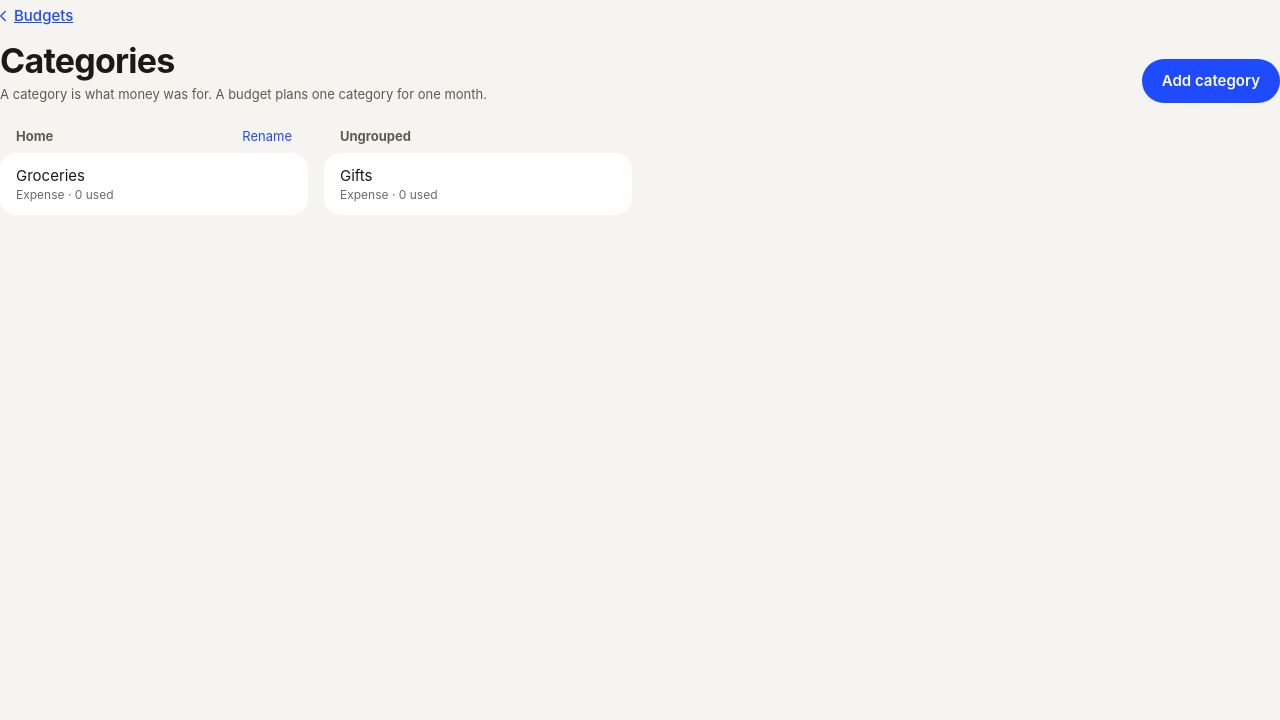
Test case: renaming a category group › says so when the name is already taken
Click the button with aria-label "Rename Home" at (267, 136), box [242,127,292,145]
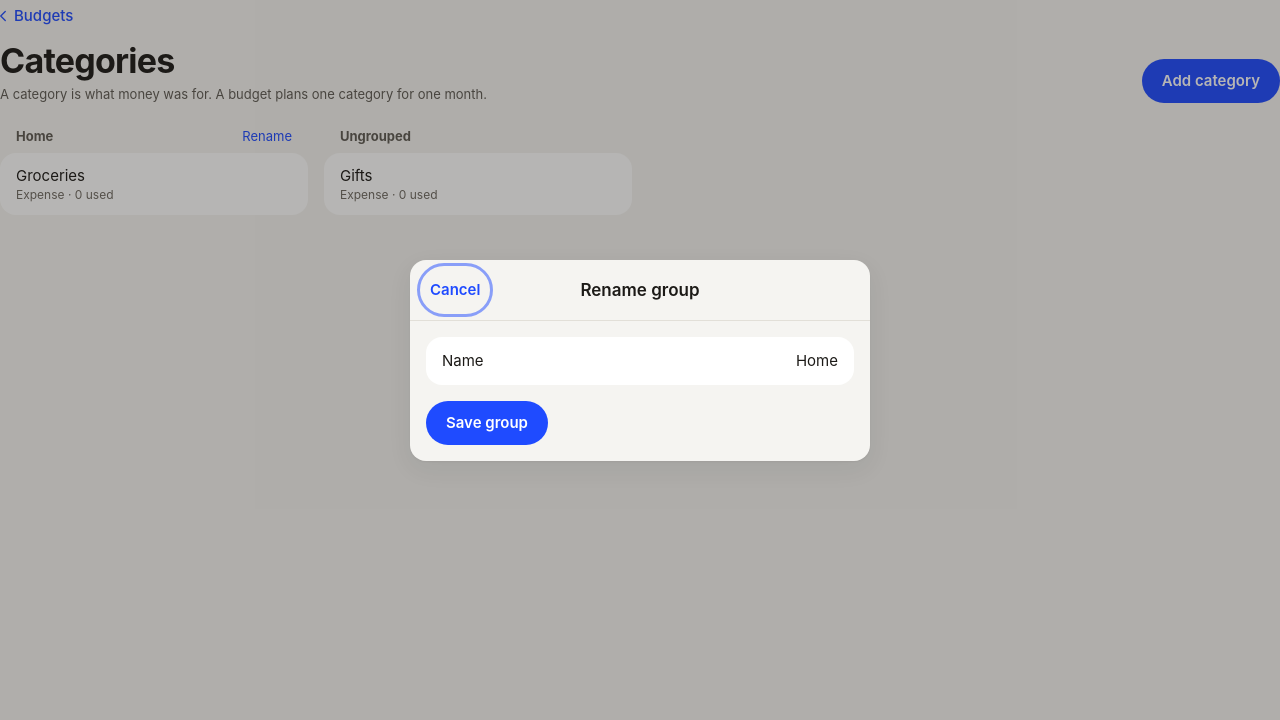
Clear the field labelled "Name" at (721, 360), box [604,338,838,382]
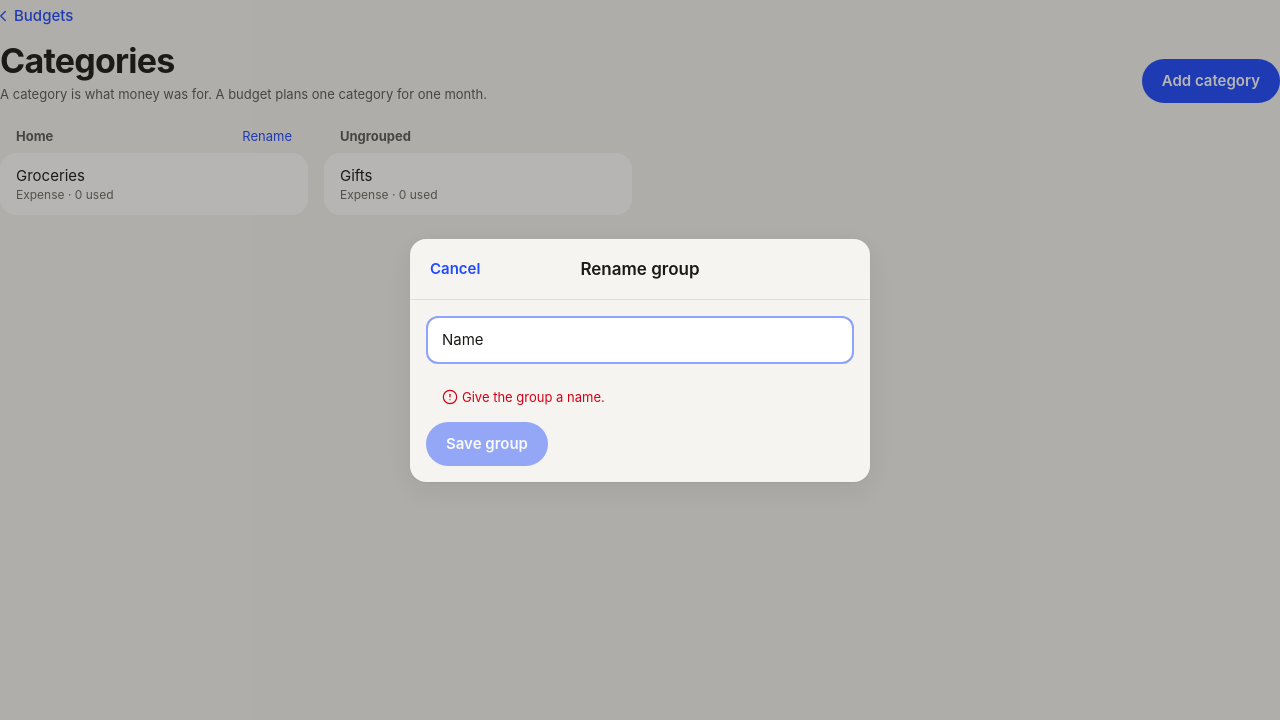
Type "Fun" into the field labelled "Name" at (721, 340), box [604,318,838,362]
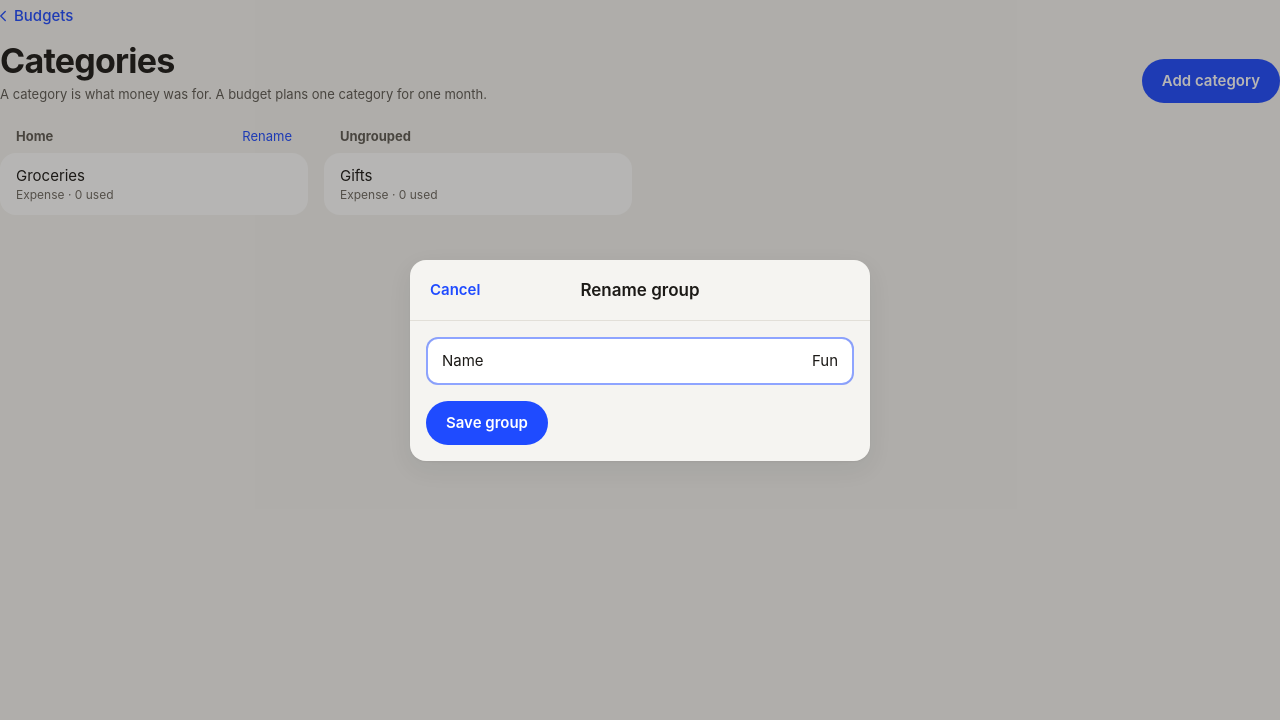
Click the button "Save group" at (487, 422), box [426,400,548,444]
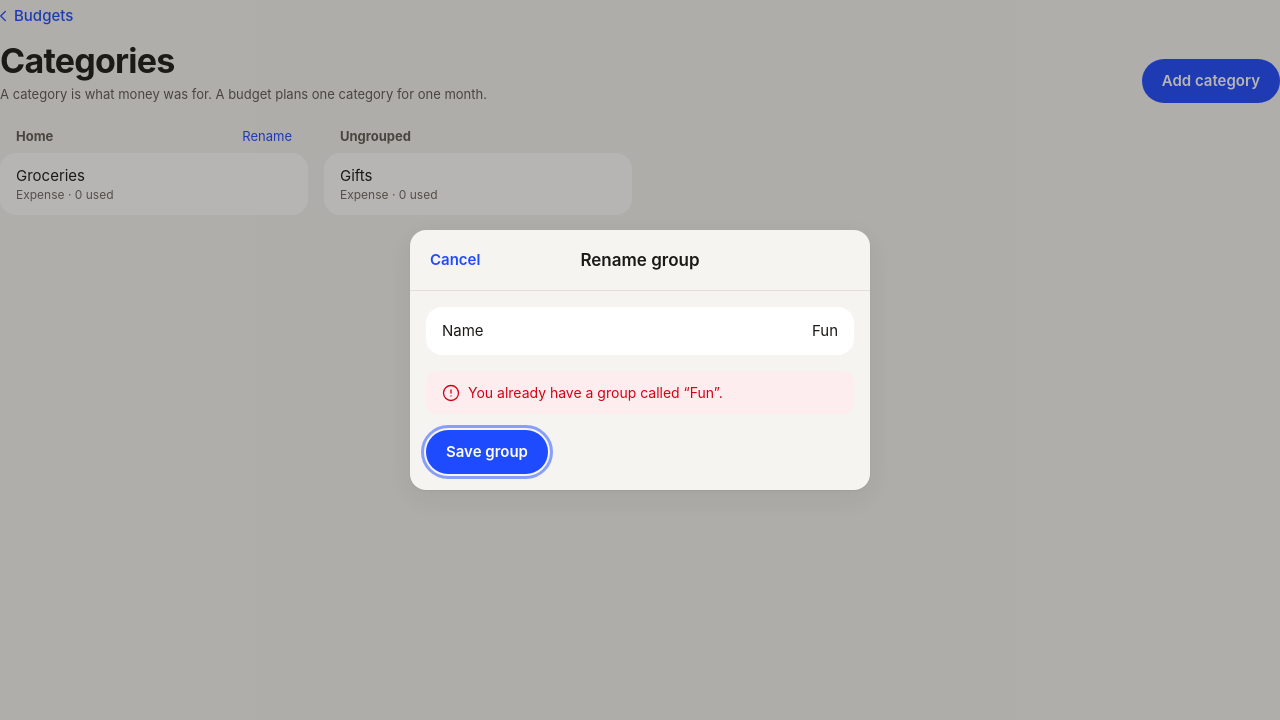
Check: the text "You already have a group called “Fun”." is shown, box [468,383,723,402]
